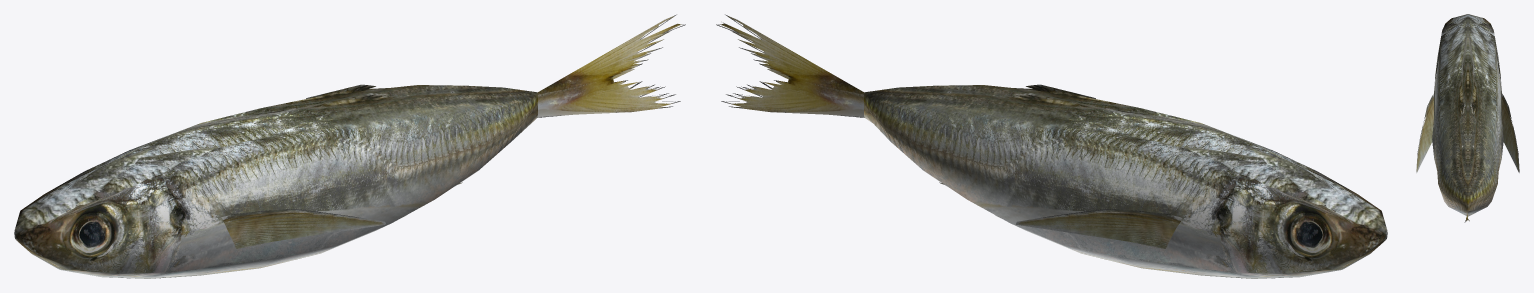
File: aji.fbx
3 views of the same model, side by side, from view 1: azimuth 30°, elevation 25°; view 2: azimuth 150°, elevation 25°; view 3: azimuth 270°, elevation 25° (orthographic). The views are drawn at different scales.
Visible parts, largest first — view 1: Circle; view 2: Circle; view 3: Circle.
Part boxes in pixels (x1,y1,x2,y2): Circle: (14, 14, 685, 278); Circle: (716, 14, 1387, 278); Circle: (1416, 14, 1519, 222).
Bounding box in the file's own units: 875 × 200 × 161.
1 material, 1 textured.
